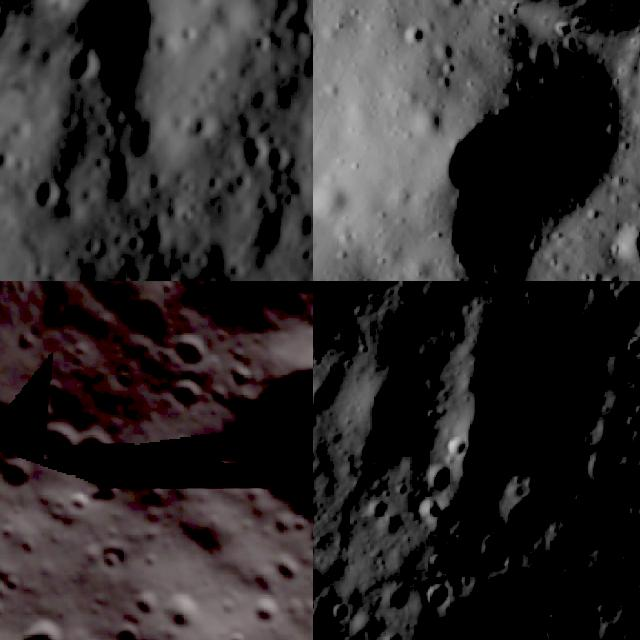crater: (387, 6, 640, 281), (194, 313, 313, 575), (336, 342, 455, 460), (97, 591, 244, 640), (61, 415, 134, 488), (24, 409, 90, 475), (2, 594, 87, 640), (164, 328, 223, 388), (597, 198, 640, 279), (125, 289, 183, 348), (158, 366, 214, 421), (236, 584, 289, 638), (414, 564, 466, 618), (54, 42, 110, 89), (433, 418, 484, 469), (0, 446, 45, 503), (350, 482, 401, 532), (162, 584, 211, 634), (419, 452, 468, 501), (377, 570, 425, 618), (318, 587, 366, 634), (400, 96, 449, 142), (184, 281, 251, 312), (264, 548, 309, 593), (21, 170, 65, 215), (220, 358, 265, 400), (0, 560, 39, 606), (394, 11, 434, 54), (292, 505, 313, 579), (424, 28, 462, 68), (370, 615, 417, 640), (589, 258, 640, 281), (341, 266, 412, 281), (616, 324, 640, 367), (0, 585, 9, 625)
